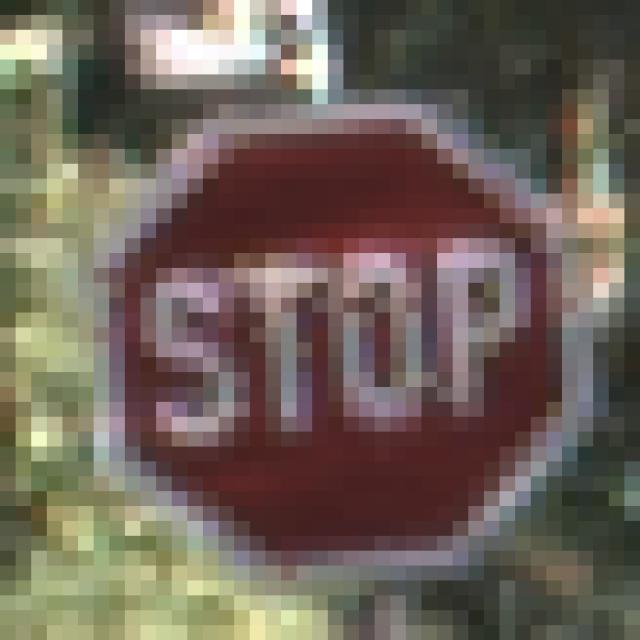STOP: (79, 90, 563, 552)
